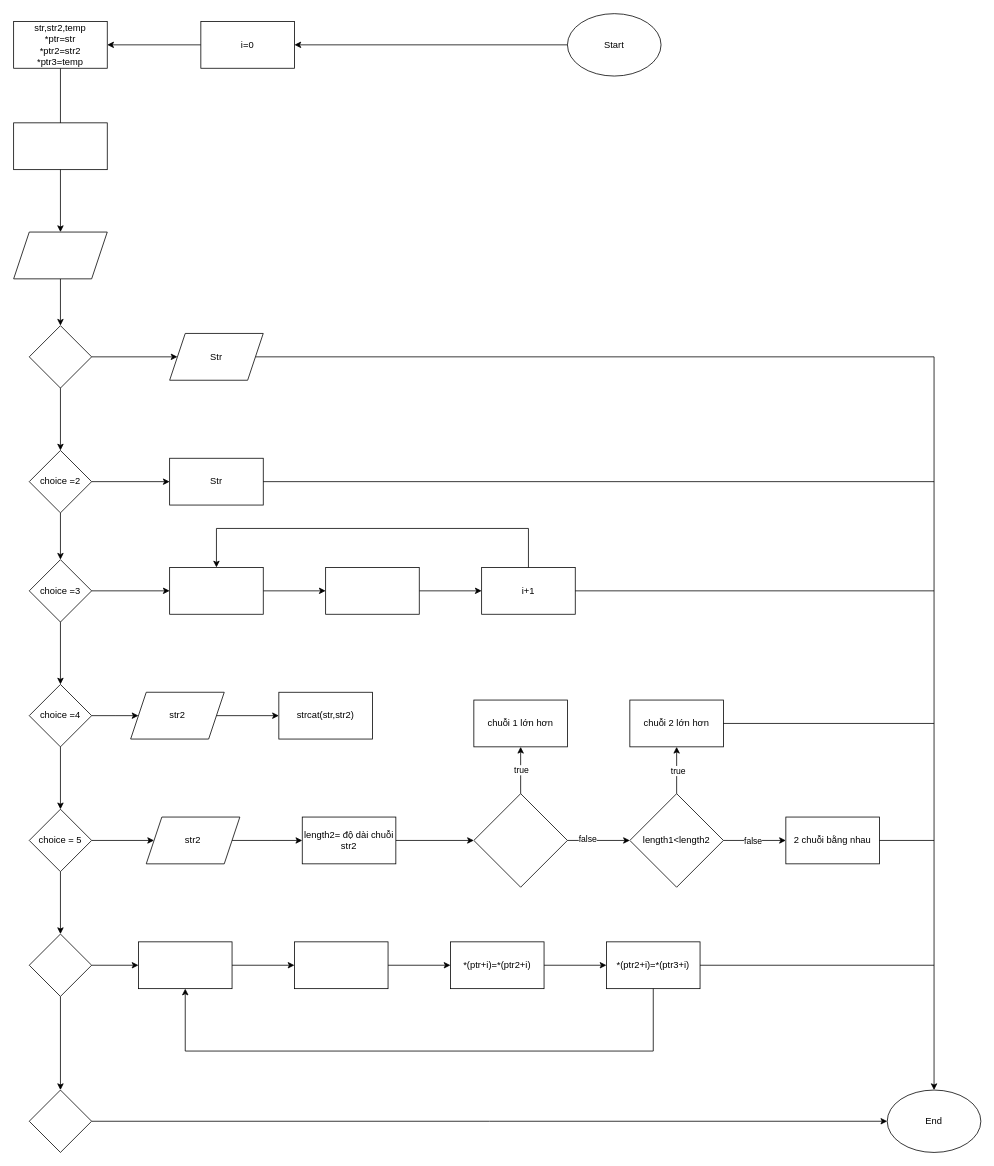
The diagram is 994 pixels wide and 1166 high, and some of its shapes have lost their labels. The shapes that lost their labels are listed below. From the top down, each one's box as (x1, y1, x2, y2) in pixels, then its label:
(13, 122, 107, 170): length=độ dài chuỗi str1
(13, 231, 107, 279): Choice
(28, 325, 92, 388): choice =1
(169, 567, 263, 614): i+1 cho đến lúc = độ dài string
(325, 567, 419, 614): *(ptr+i) = *(ptr2+i)
(473, 793, 567, 887): length1>length2
(28, 933, 92, 996): choice = 6
(138, 941, 232, 989): i+1 cho đến khi = length/2
(294, 941, 388, 989): *(ptr3+i)=*(ptr+i)
(28, 1089, 92, 1152): choice = 7
